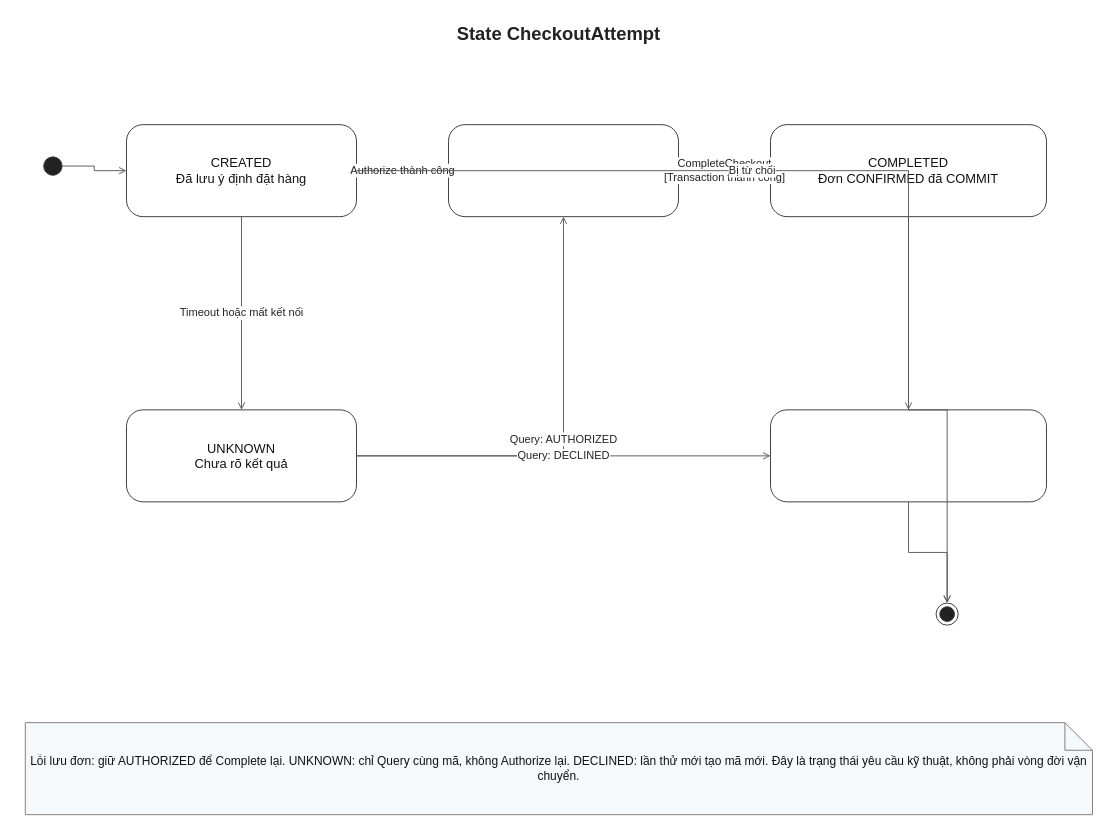
Some shapes in this 1117 by 831 pixel diagram are drawn without their labels. Here are the shapes that lost their labels. From the top down, the centre of each, then its label:
At (x=563, y=170): "AUTHORIZED Được chấp thuận".
At (x=908, y=455): "DECLINED Không tạo đơn".
